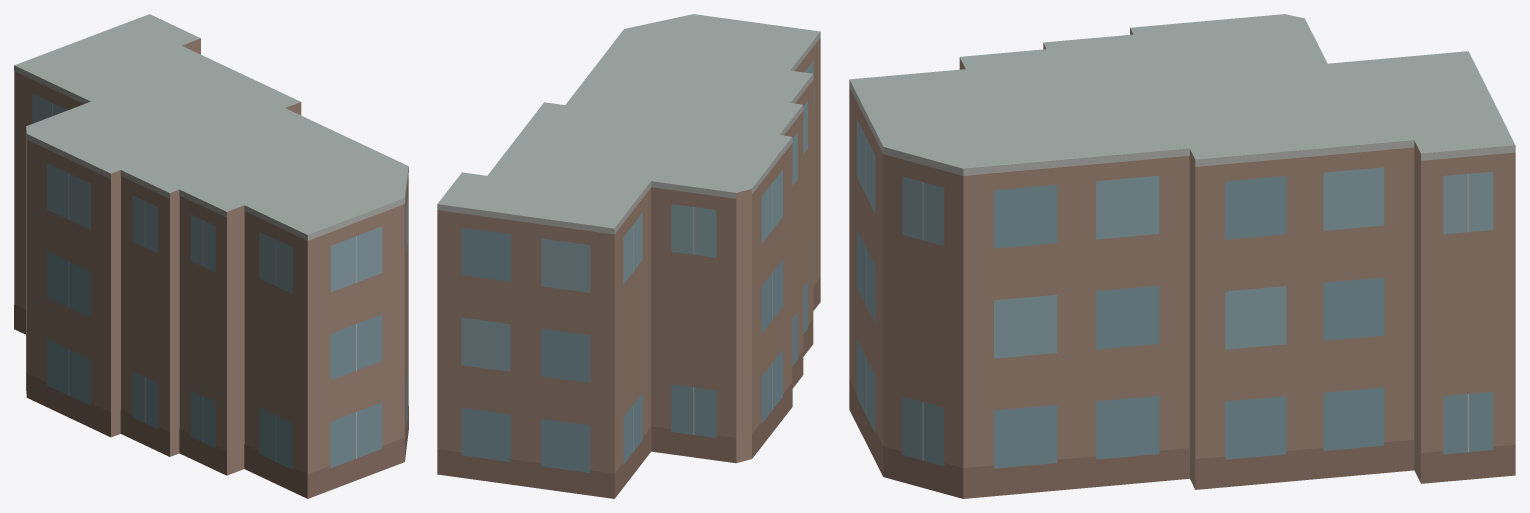
Rendered from survey-upis-32614712.glb.
The picture shows the model from 3 angles, left to right: view 1: azimuth 30°, elevation 25°; view 2: azimuth 150°, elevation 25°; view 3: azimuth 270°, elevation 25°; orthographic projection. The views are drawn at different scales.
Parts seen in each view (by area): view 1: survey-upis-32614712.tmp; view 2: survey-upis-32614712.tmp; view 3: survey-upis-32614712.tmp.
Part boxes in pixels (x1,y1,x2,y2): survey-upis-32614712.tmp: (14, 14, 408, 498); survey-upis-32614712.tmp: (437, 14, 820, 498); survey-upis-32614712.tmp: (849, 14, 1515, 498).
Bounding box in the file's own units: 11.17 × 11.1 × 20.31.
